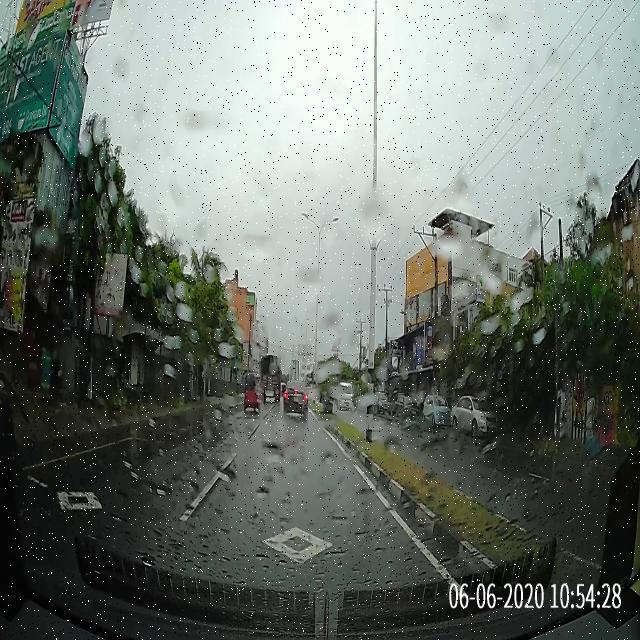diamond: (158, 523, 435, 564)
